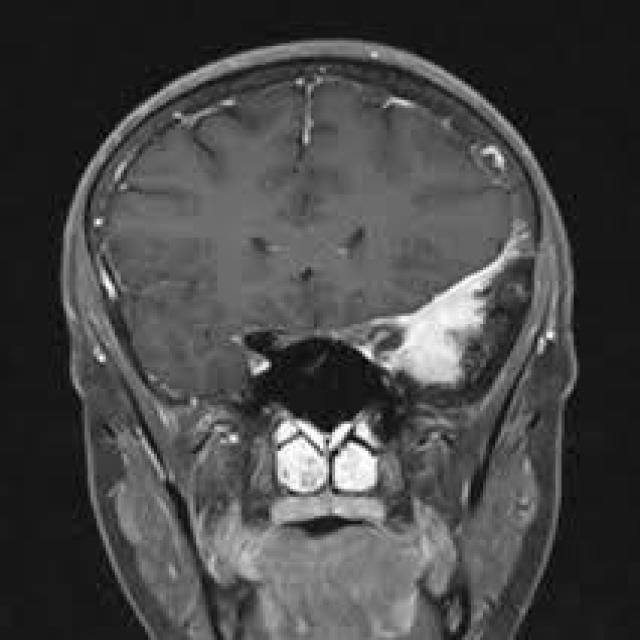Tumor: (380, 262, 509, 388)
